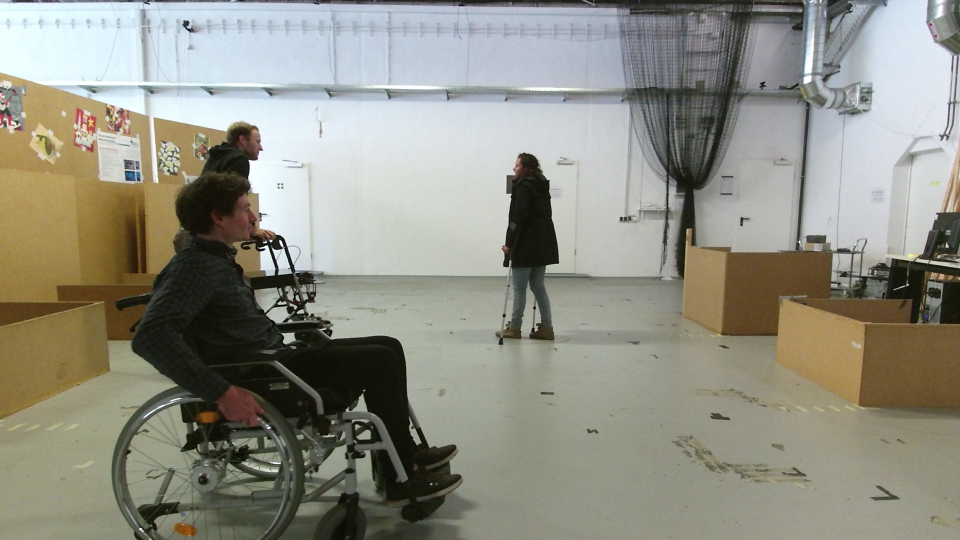crutches: (486, 151, 572, 348)
wheelchair: (92, 161, 463, 540)
